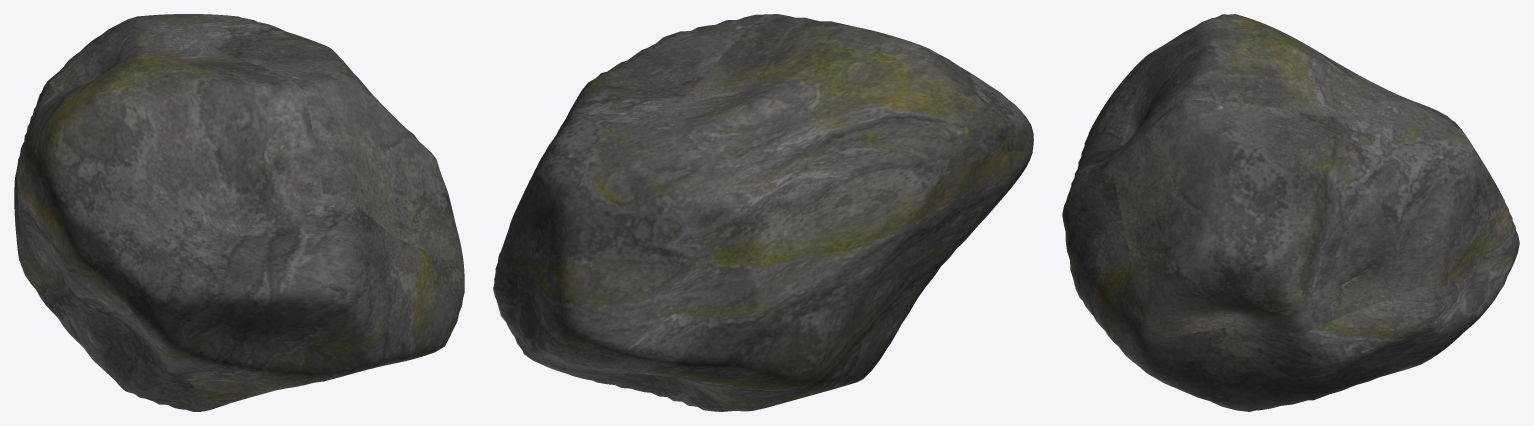
The model's file is RockVariant4.fbx.
The picture shows the model from 3 angles, left to right: view 1: azimuth 30°, elevation 25°; view 2: azimuth 150°, elevation 25°; view 3: azimuth 270°, elevation 25°; orthographic projection. The views are drawn at different scales.
Parts seen in each view (by area): view 1: Cube.003; view 2: Cube.003; view 3: Cube.003.
Part boxes in pixels (left/top/right/bottom): Cube.003: left=14, top=14, right=464, bottom=411; Cube.003: left=493, top=14, right=1033, bottom=411; Cube.003: left=1062, top=14, right=1519, bottom=411.
Size of the model in its own units: 219 by 179 by 247.
1 material, 1 textured.
